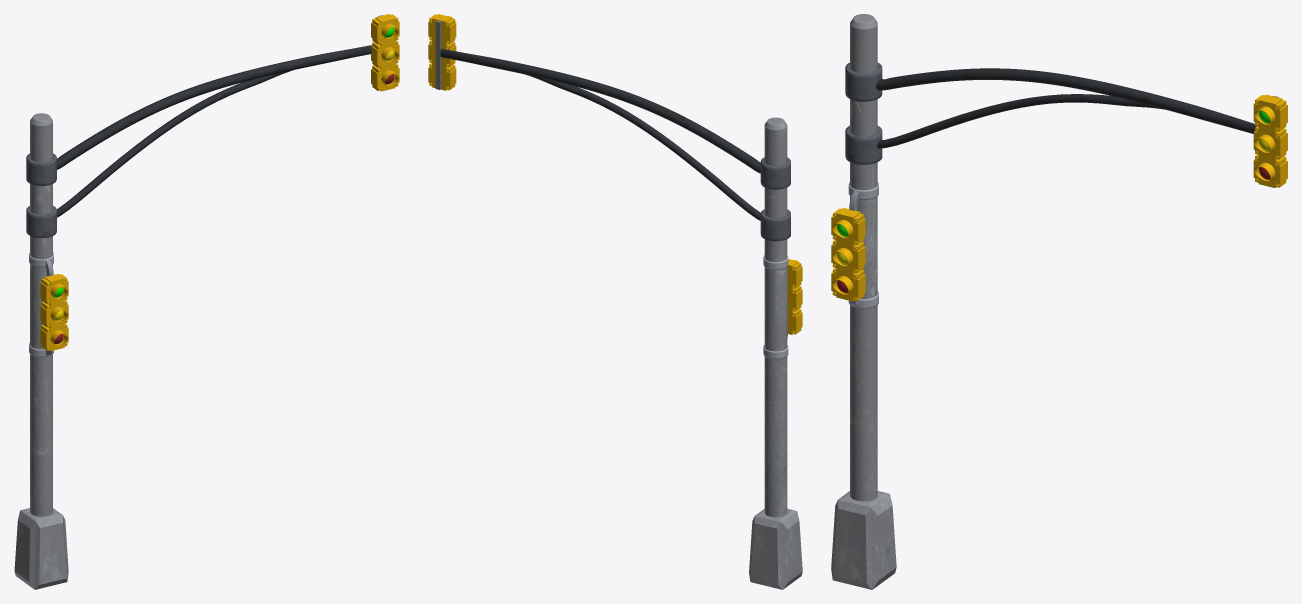
The model's file is trafficlight.obj.
3 views of the same model, side by side, from view 1: azimuth 30°, elevation 25°; view 2: azimuth 150°, elevation 25°; view 3: azimuth 330°, elevation 25° (orthographic). The views are drawn at different scales.
Parts seen in each view (by area): view 1: pCylinder1, pCube1, pCube4, pCube5, pCylinder3, pCylinder2; view 2: pCylinder1, pCube1, pCube4, pCube5, pCylinder3, pCylinder2; view 3: pCylinder1, pCube1, pCube4, pCube5, pCylinder2, pCylinder3.
Part boxes in pixels (x1=…): pCylinder1: x1=30, y1=113, x2=52, y2=516; pCube1: x1=14, y1=508, x2=68, y2=589; pCube4: x1=57, y1=45, x2=372, y2=169; pCube5: x1=57, y1=70, x2=293, y2=217; pCylinder3: x1=26, y1=153, x2=56, y2=185; pCylinder2: x1=26, y1=206, x2=56, y2=237; pCylinder1: x1=764, y1=117, x2=787, y2=517; pCube1: x1=749, y1=508, x2=802, y2=589; pCube4: x1=440, y1=48, x2=760, y2=173; pCube5: x1=526, y1=74, x2=760, y2=220; pCylinder3: x1=760, y1=157, x2=790, y2=189; pCylinder2: x1=760, y1=209, x2=790, y2=241; pCylinder1: x1=850, y1=14, x2=877, y2=501; pCube1: x1=831, y1=491, x2=896, y2=589; pCube4: x1=876, y1=68, x2=1256, y2=133; pCube5: x1=877, y1=94, x2=1164, y2=148; pCylinder2: x1=845, y1=126, x2=882, y2=164; pCylinder3: x1=845, y1=62, x2=882, y2=101.
Bounding box in the file's own units: 10.8 × 13.37 × 1.59.
18 materials, 18 textured.
